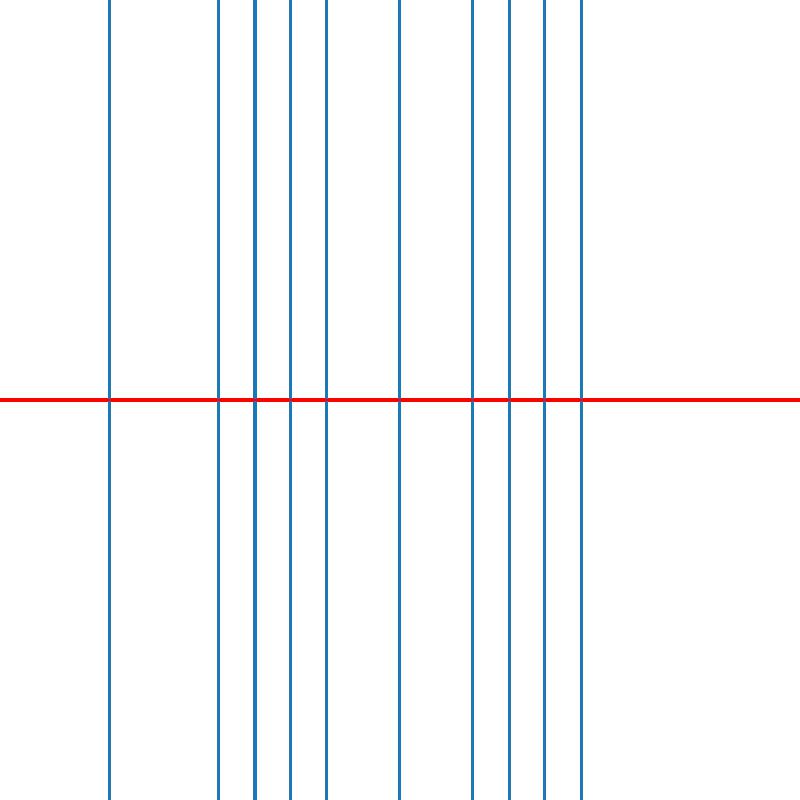root: (250, 396, 258, 404), (541, 396, 549, 404), (214, 396, 221, 404), (469, 396, 476, 404), (287, 396, 294, 404), (105, 396, 112, 404), (578, 396, 585, 404), (505, 396, 512, 404), (323, 396, 330, 404), (396, 396, 403, 404)
